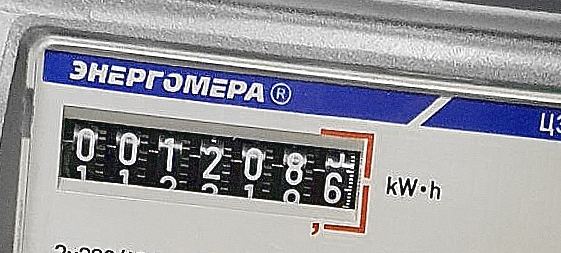0: (71, 122, 100, 163), (114, 128, 142, 167), (239, 143, 266, 181)
1: (156, 133, 180, 174)
2: (197, 142, 227, 182)
6: (319, 167, 345, 205)
8: (279, 148, 307, 187)
screen: (46, 97, 384, 239)
